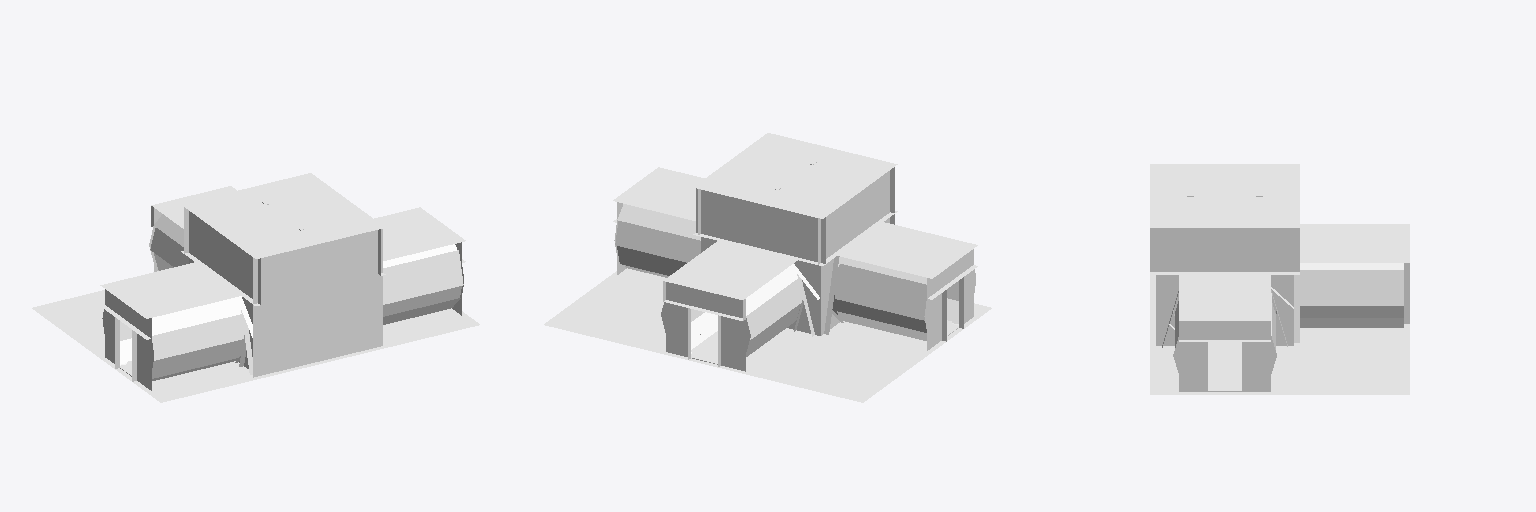
File: HC_room3.obj
3 views of the same model, side by side, from view 1: azimuth 30°, elevation 25°; view 2: azimuth 150°, elevation 25°; view 3: azimuth 270°, elevation 25° (orthographic).
Parts seen in each view (by area): view 1: room3tunnels; view 2: room3tunnels; view 3: room3tunnels.
Part boxes in pixels (x1,y1,x2,y2): room3tunnels: (32,173,479,402); room3tunnels: (544,133,991,402); room3tunnels: (1150,164,1409,394).
Size of the model in its own units: 20.48 by 7.39 by 14.4.